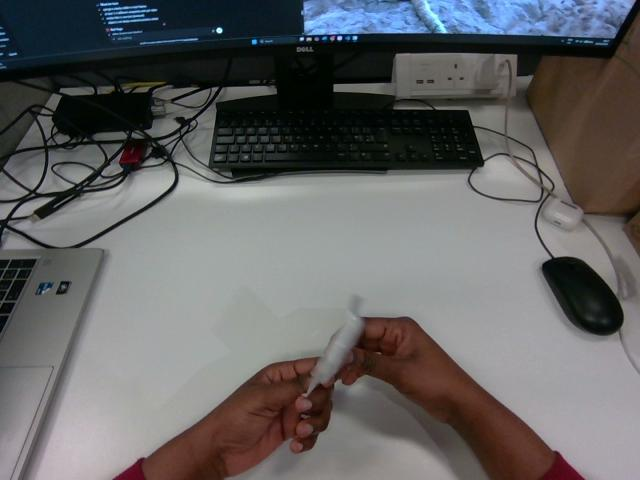gauze: (306, 311, 364, 394)
